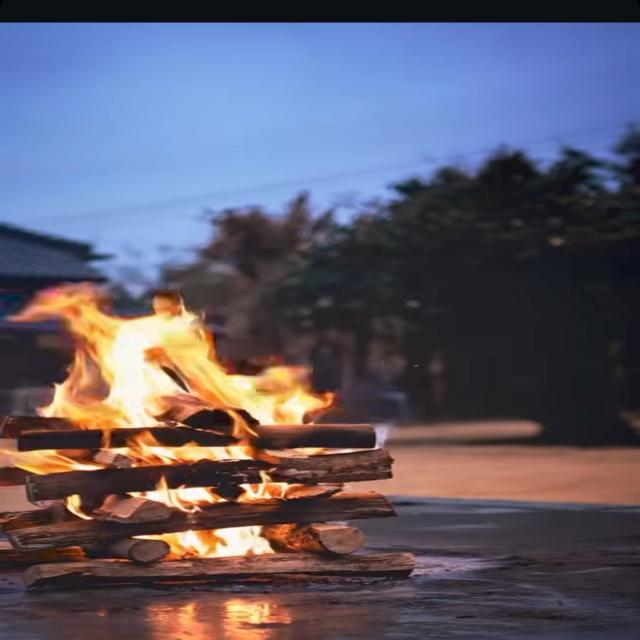fire: (6, 282, 334, 431), (0, 443, 255, 473), (136, 522, 276, 562), (125, 472, 295, 503), (263, 445, 365, 459)
